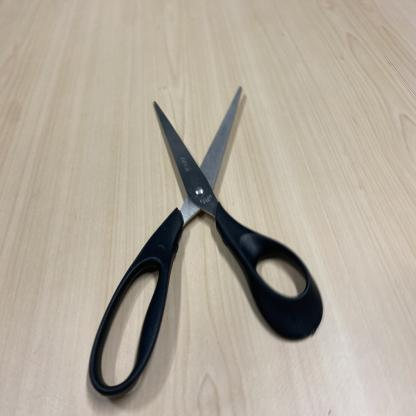scissors: (89, 85, 322, 406)
